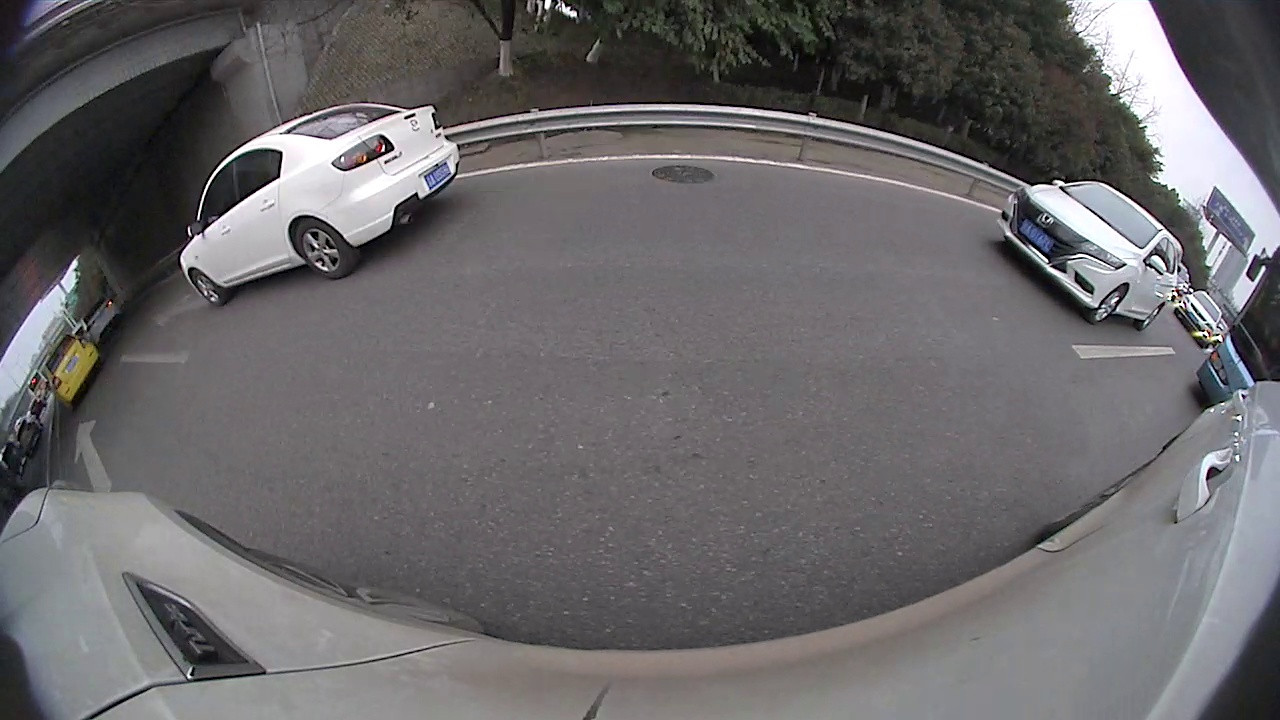bus: (1191, 251, 1276, 408)
car: (178, 98, 463, 311), (992, 176, 1187, 331), (35, 329, 102, 408), (1171, 288, 1226, 348)
front: (1088, 282, 1128, 327), (188, 268, 227, 309)
rear: (292, 217, 359, 282), (1138, 302, 1163, 331)
